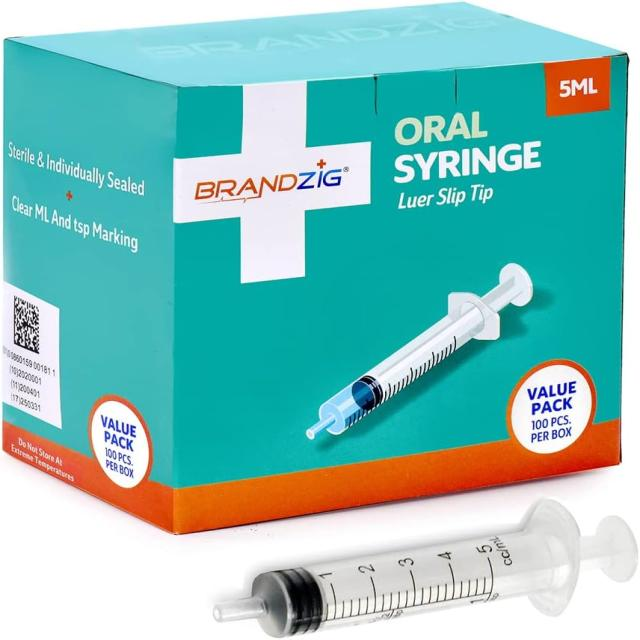syringe: (212, 495, 638, 637), (304, 261, 533, 441)
